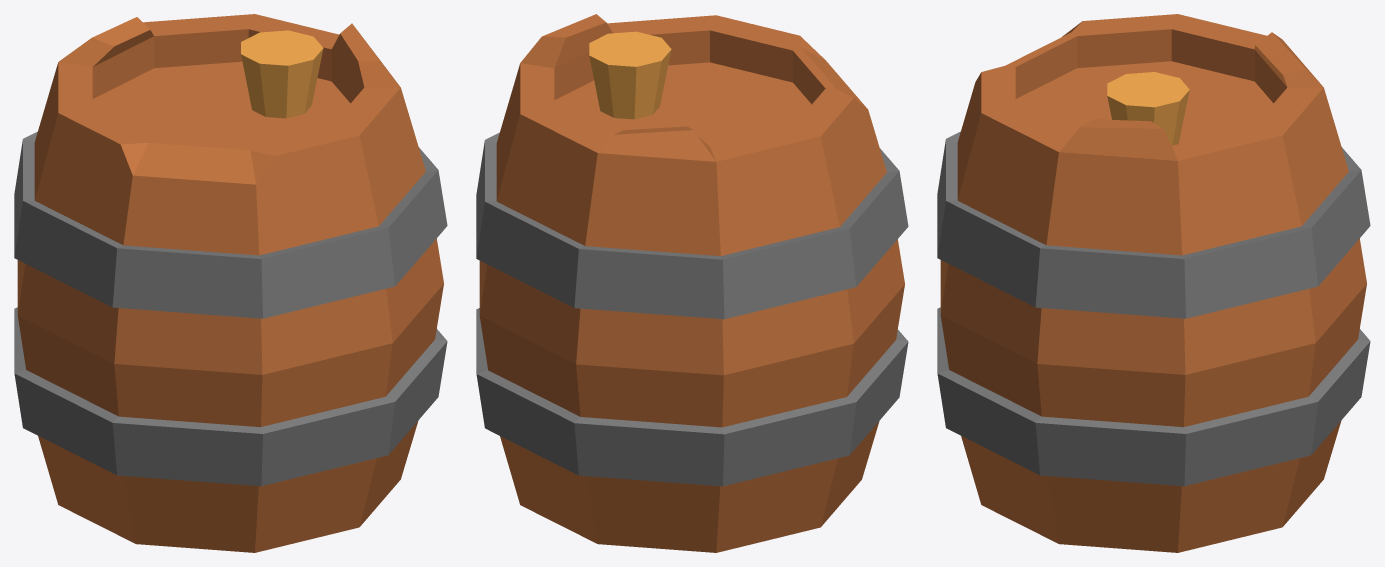
Rendered from Barrel.fbx.
The picture shows the model from 3 angles, left to right: view 1: azimuth 30°, elevation 25°; view 2: azimuth 150°, elevation 25°; view 3: azimuth 270°, elevation 25°; orthographic projection.
Parts seen in each view (by area): view 1: Cylinder; view 2: Cylinder; view 3: Cylinder.
Part boxes in pixels (<box>): Cylinder: <box>14,14,447,552</box>; Cylinder: <box>476,14,908,552</box>; Cylinder: <box>937,14,1370,552</box>.
Bounding box in the file's own units: 329 × 345 × 324.
